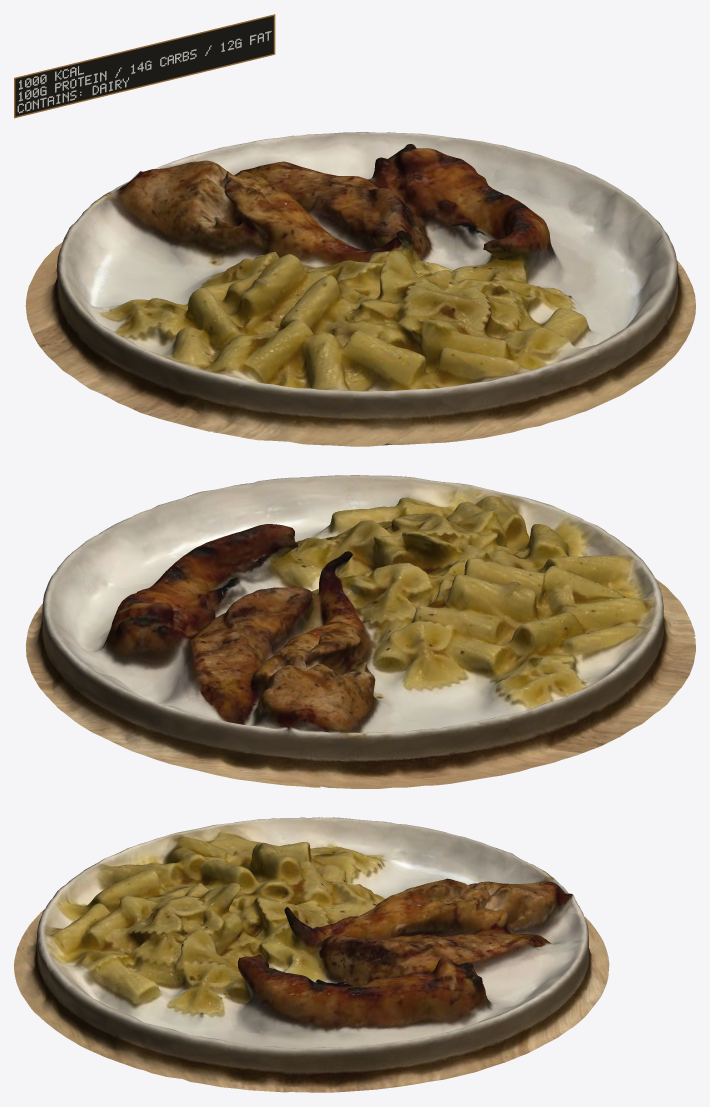
The picture shows the model from 3 angles, top to bottom: view 1: azimuth 30°, elevation 25°; view 2: azimuth 150°, elevation 25°; view 3: azimuth 270°, elevation 25°; orthographic projection. The views are drawn at different scales.
Visible parts, largest first — view 1: geom, nutrition-panel-node; view 2: geom; view 3: geom.
Part boxes in pixels (x1,y1,x2,y2): geom: [25, 132, 695, 446]; nutrition-panel-node: [14, 14, 275, 118]; geom: [25, 475, 695, 788]; geom: [14, 817, 609, 1092].
Size of the model in its own units: 0.3069 by 0.0519 by 0.3515.
2 materials, 2 textured.
